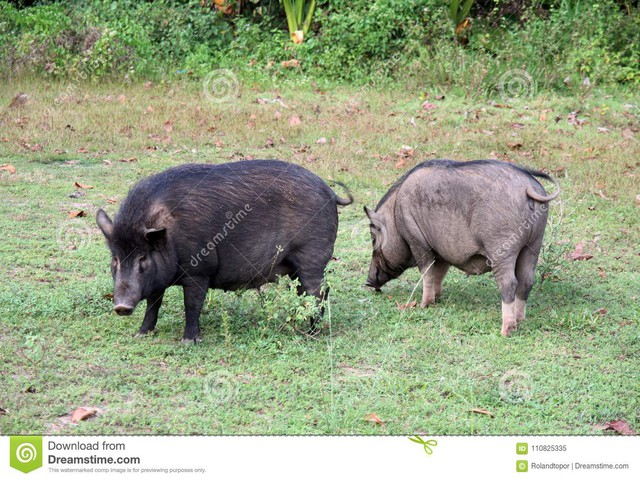Pig: (95, 151, 348, 336), (364, 153, 557, 334)
